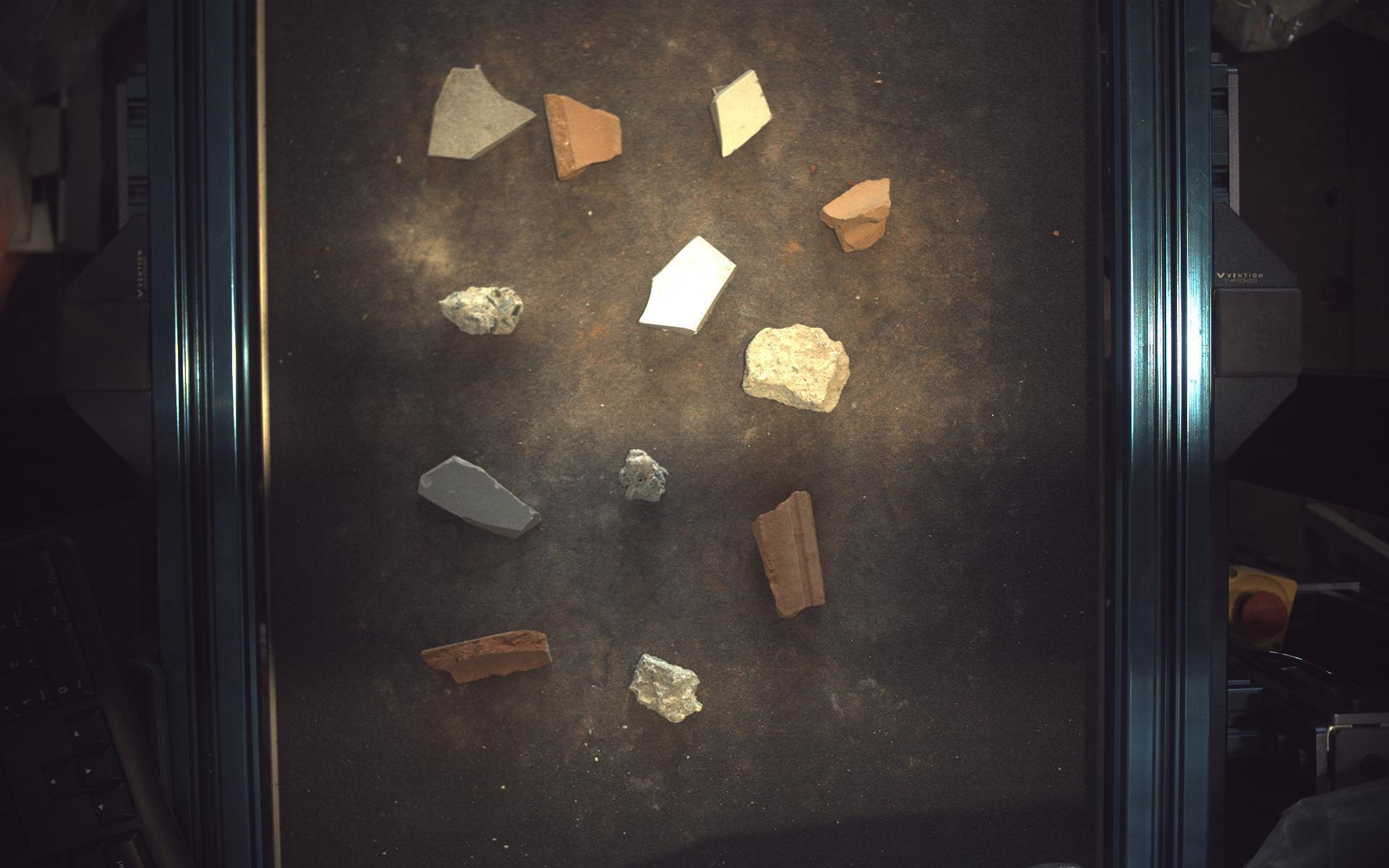brick: (754, 491, 827, 618), (421, 631, 553, 684), (544, 93, 622, 179), (822, 178, 893, 252)
concrete: (744, 324, 851, 413), (631, 655, 703, 724), (441, 286, 524, 334), (619, 449, 668, 503)
tile: (418, 456, 543, 540), (428, 64, 536, 158), (640, 235, 736, 335), (712, 68, 773, 156)
